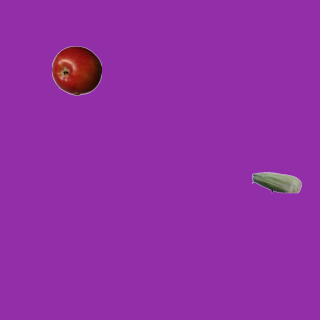Apple Braeburn: (51, 45, 101, 95)
Corn Husk: (251, 157, 301, 207)
